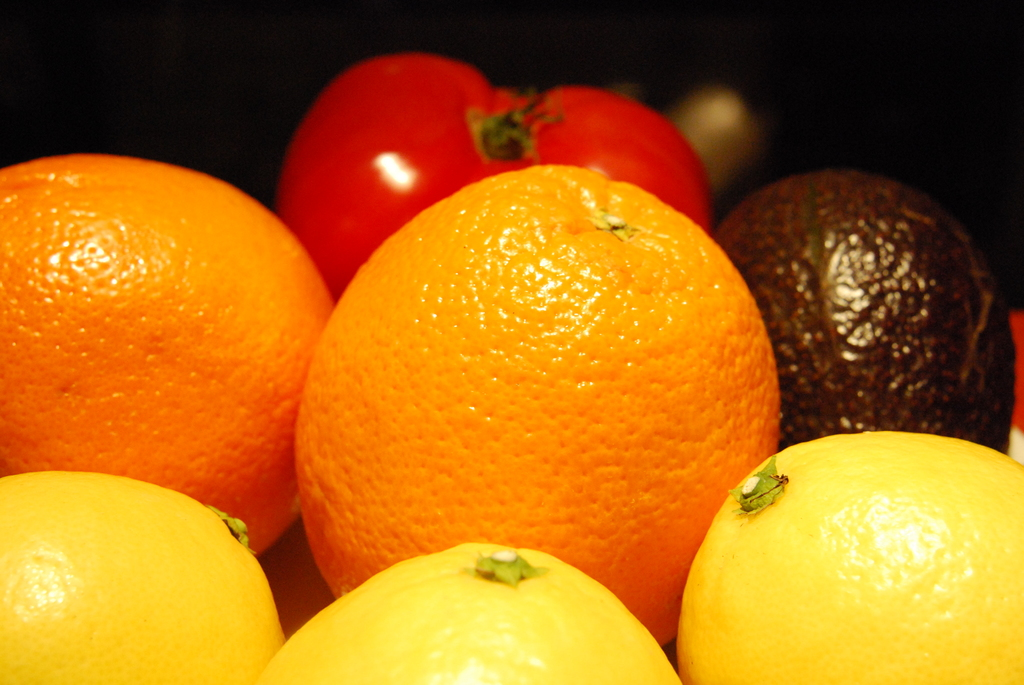Ripe: (288, 167, 764, 612), (1, 152, 327, 549)
